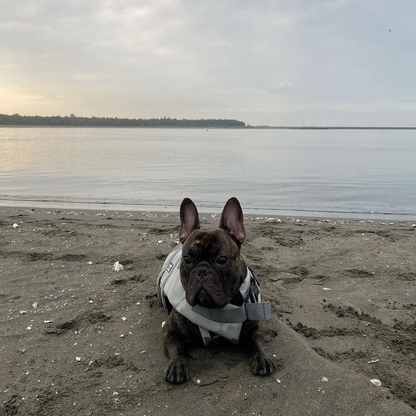bulldog: (157, 194, 280, 387)
